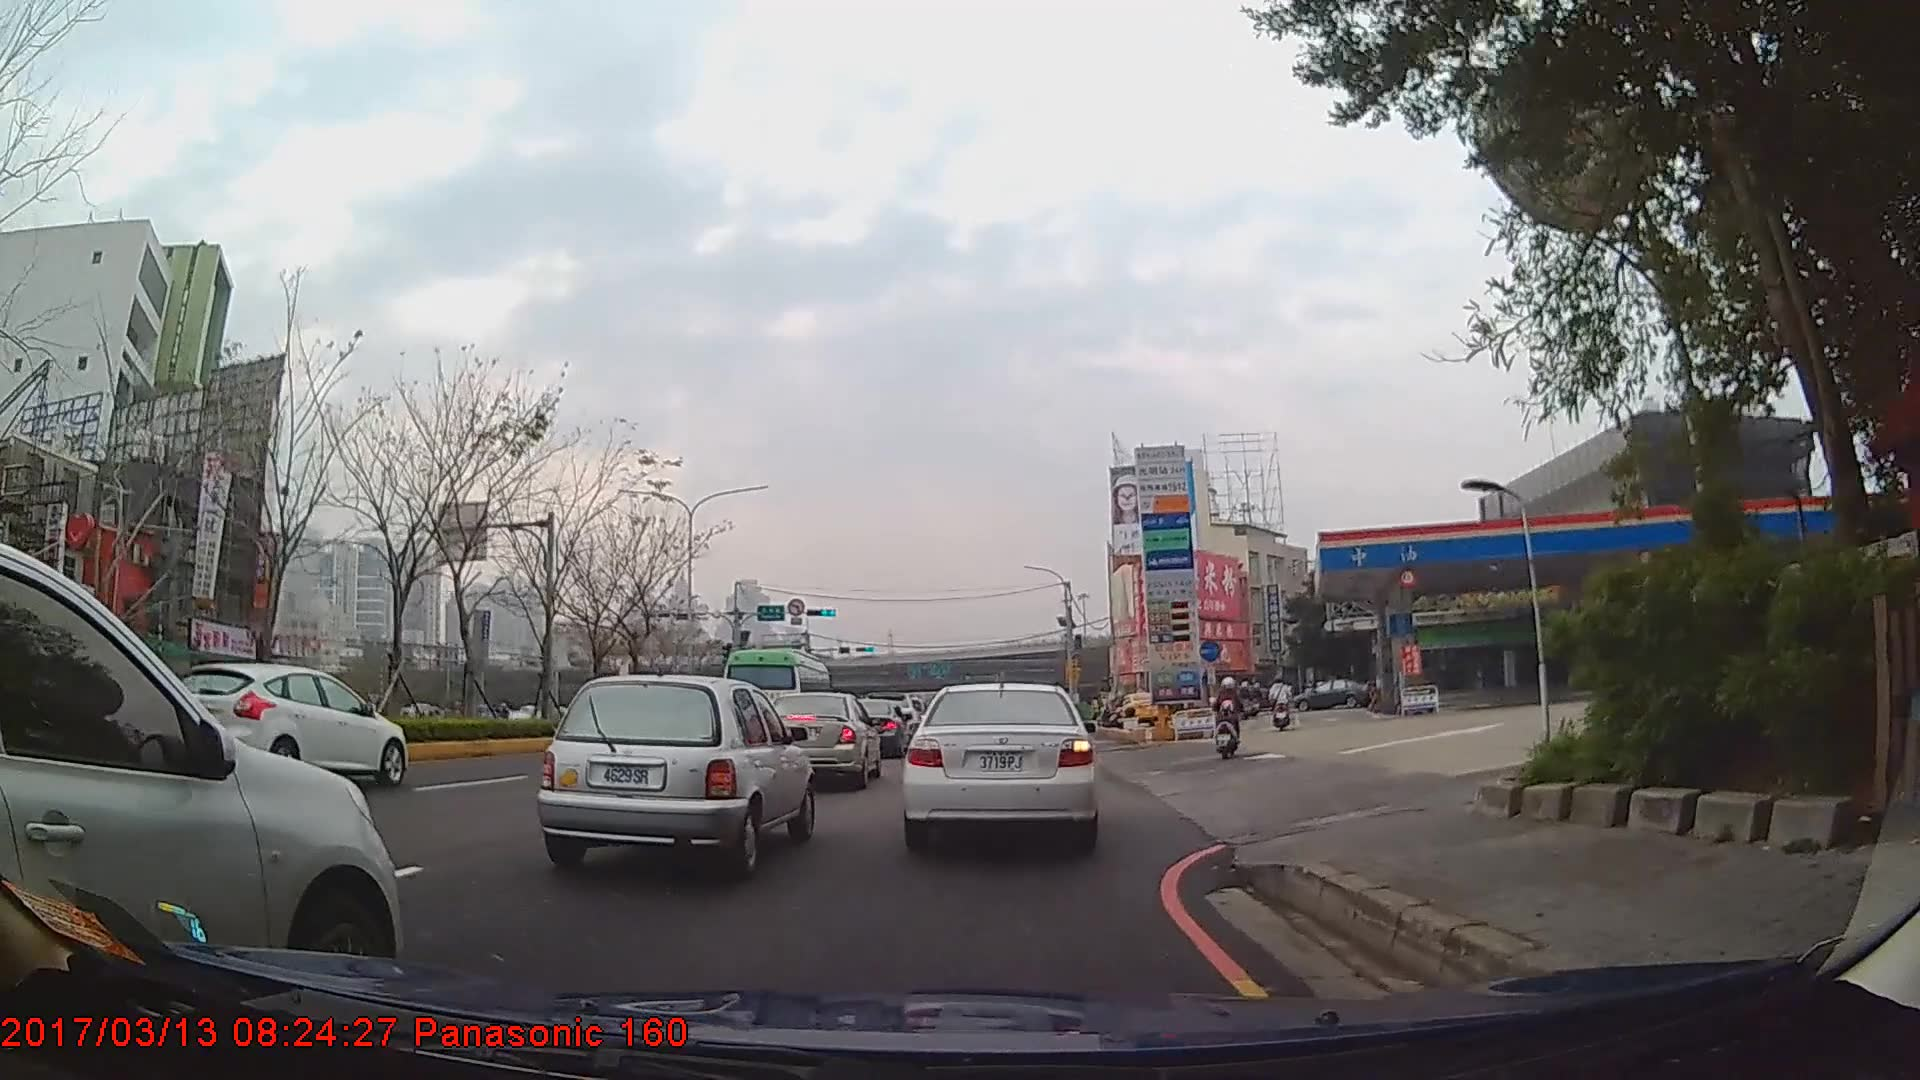rider: (1210, 675, 1244, 758), (1266, 674, 1293, 730)
vehicle: (0, 541, 403, 1006), (533, 669, 817, 877), (905, 678, 1096, 850), (170, 658, 406, 788), (753, 689, 880, 787), (721, 644, 832, 739), (837, 694, 911, 759), (1294, 677, 1370, 709), (1115, 689, 1162, 722)
